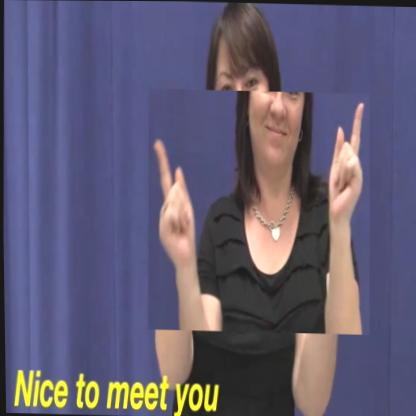NiceToMeetYou: (144, 88, 372, 334)
